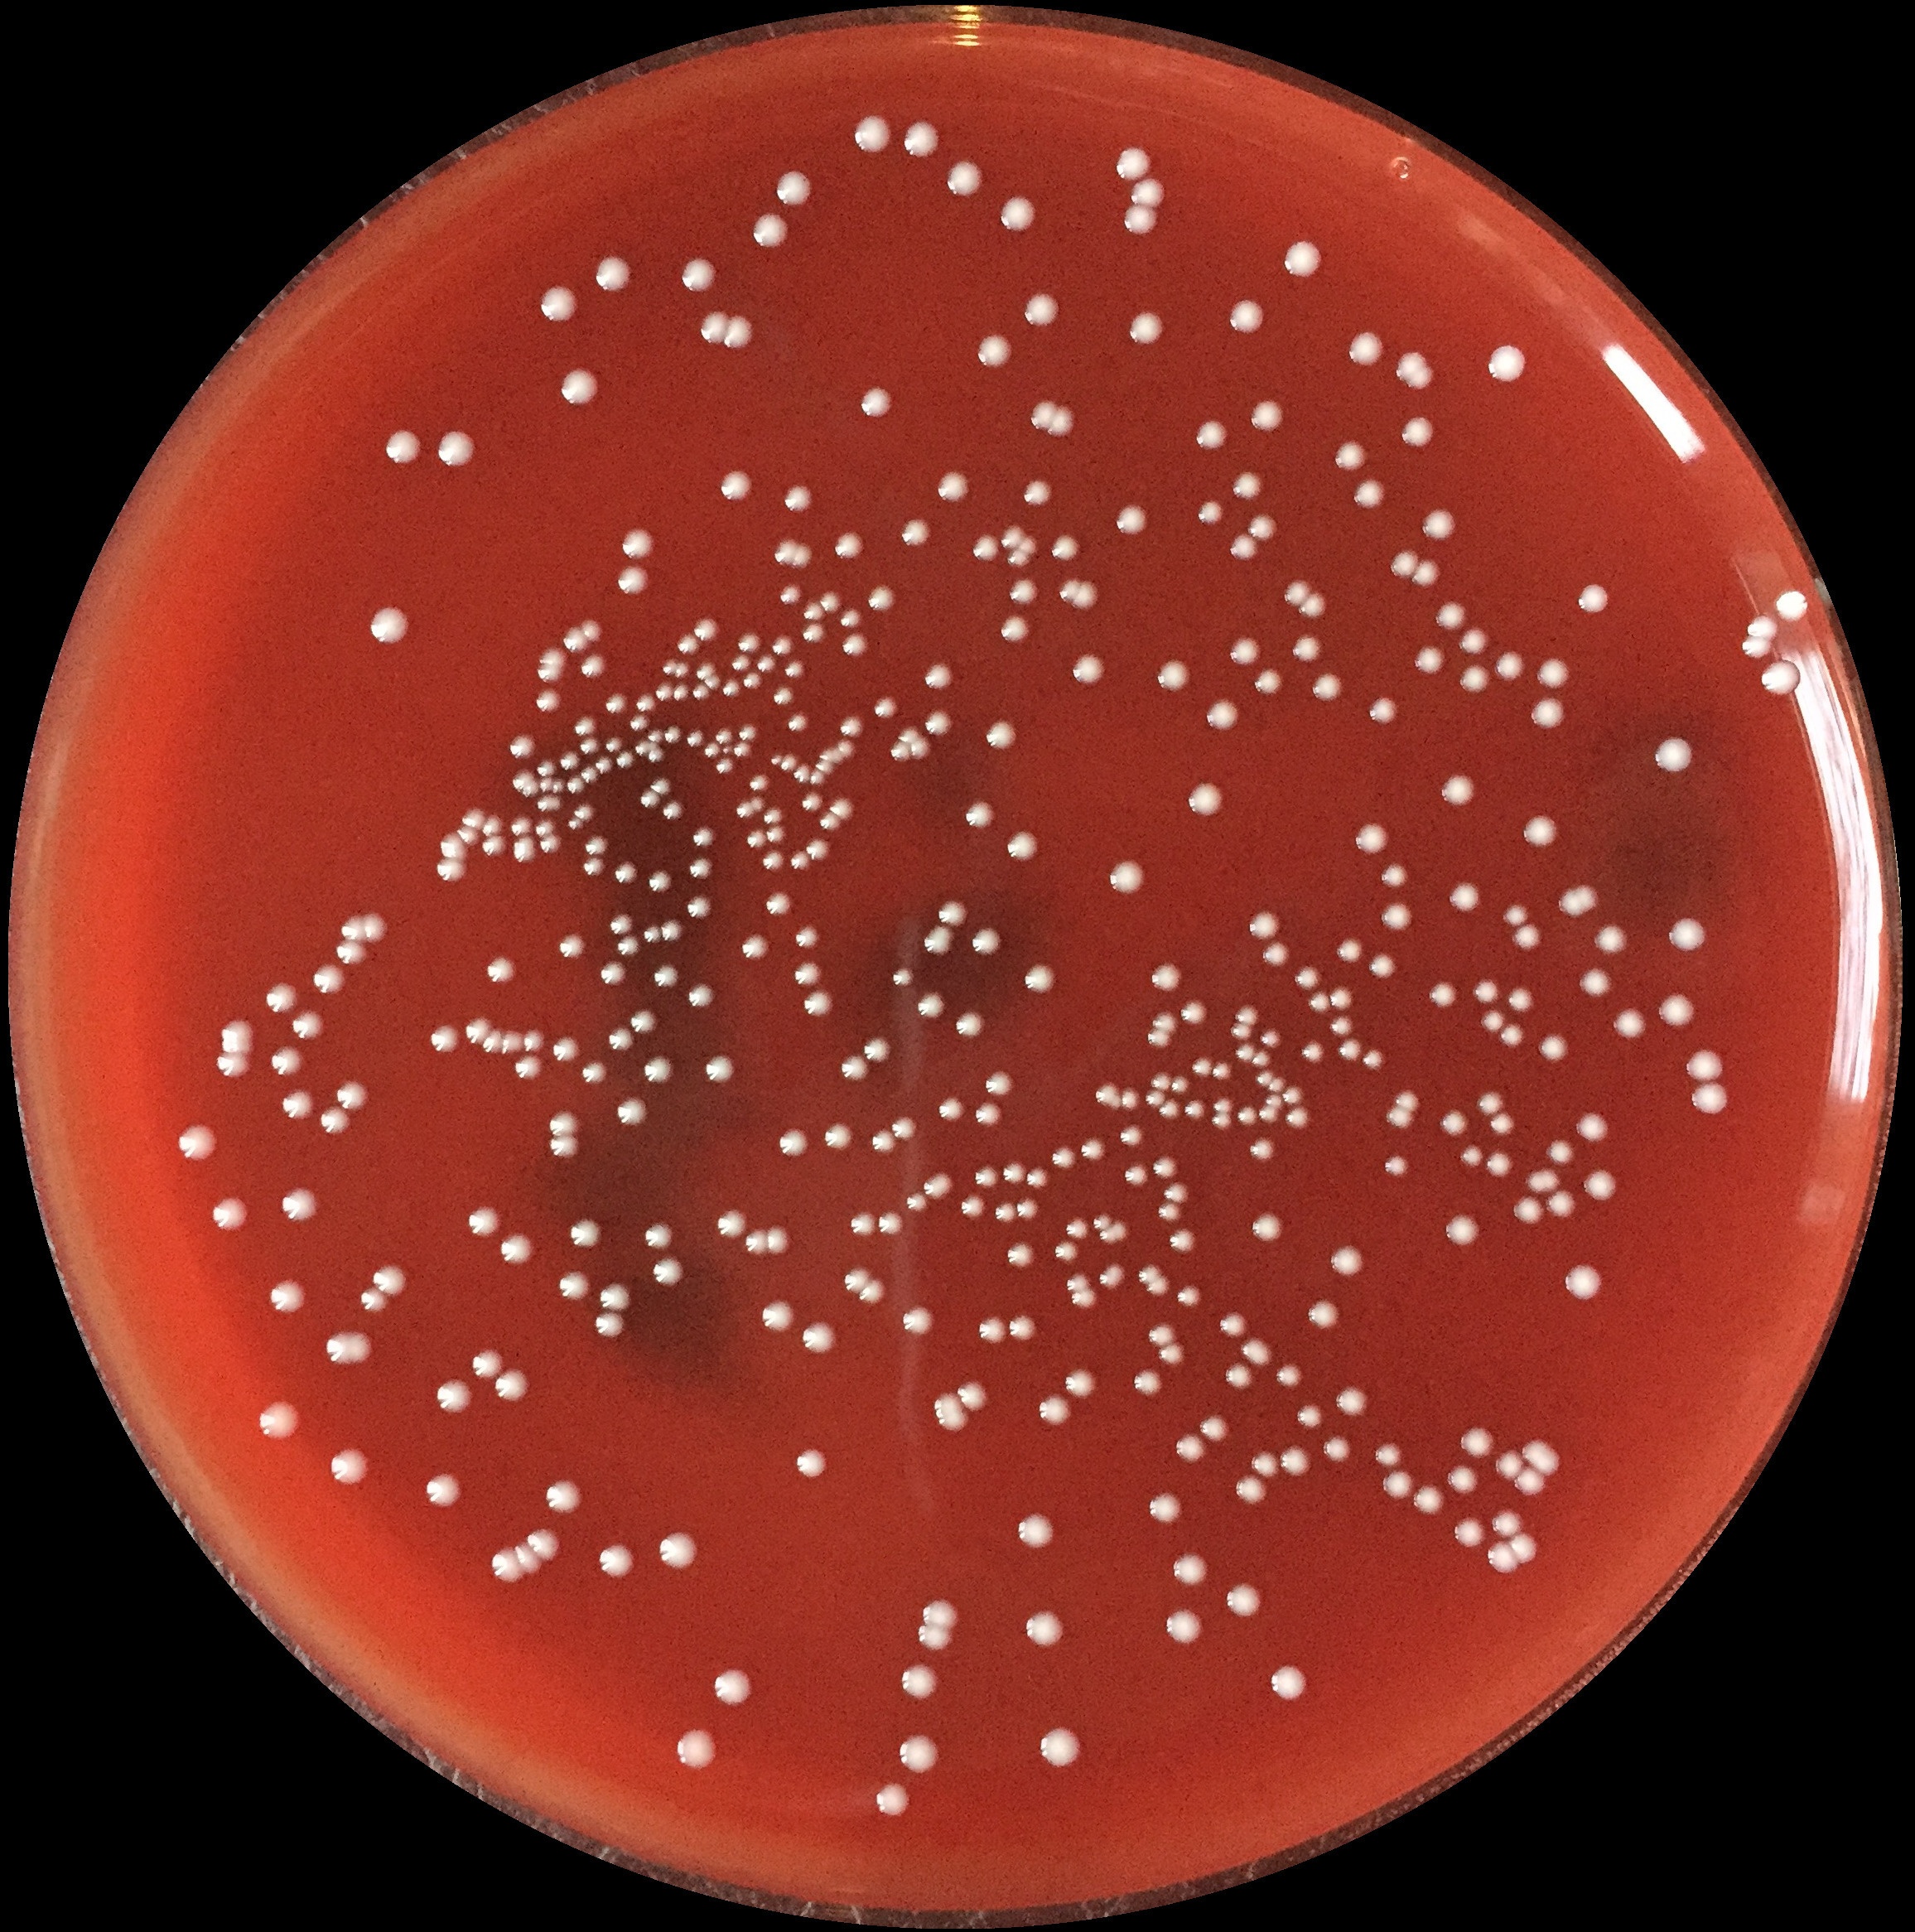sp21: (175, 1120, 223, 1167), (1482, 340, 1531, 386), (258, 1397, 307, 1442), (1036, 1723, 1084, 1769), (673, 1727, 717, 1774), (323, 1328, 377, 1365), (558, 367, 603, 411), (1266, 1658, 1313, 1700), (591, 251, 635, 295), (851, 114, 896, 156), (900, 119, 945, 161), (996, 193, 1042, 235), (1650, 733, 1696, 776), (896, 1734, 940, 1776), (279, 1186, 323, 1228), (382, 426, 424, 470), (942, 158, 987, 198), (1759, 658, 1805, 698), (326, 1444, 372, 1485), (537, 283, 582, 323), (707, 1667, 754, 1706), (1555, 881, 1605, 918), (1015, 1511, 1059, 1551), (1022, 1609, 1066, 1649), (209, 1193, 253, 1234), (433, 430, 477, 470), (1655, 990, 1698, 1030), (658, 1528, 698, 1571), (1021, 291, 1064, 330), (1682, 1046, 1727, 1083), (1519, 1439, 1564, 1476), (1228, 297, 1268, 337), (773, 168, 815, 207), (749, 211, 791, 249), (1282, 239, 1324, 277), (1519, 811, 1561, 849), (1563, 1258, 1601, 1300), (931, 1393, 970, 1435), (368, 607, 410, 646), (679, 256, 719, 295), (1347, 328, 1385, 369), (1438, 772, 1478, 811), (1668, 914, 1708, 953), (758, 1297, 798, 1335), (1222, 1581, 1263, 1620), (370, 1262, 409, 1302), (1185, 781, 1226, 819), (1112, 146, 1154, 182), (1350, 819, 1392, 856), (1689, 1081, 1731, 1118), (423, 1472, 465, 1509), (1126, 311, 1170, 346), (801, 1320, 840, 1358), (435, 1377, 473, 1416), (268, 1277, 307, 1316), (289, 1007, 328, 1046), (1145, 1488, 1185, 1525), (1484, 1539, 1524, 1576), (1163, 1606, 1203, 1642), (1107, 858, 1147, 895), (1170, 1551, 1212, 1586), (977, 332, 1014, 370), (1398, 414, 1436, 451), (1247, 398, 1285, 435), (1771, 588, 1810, 625), (1278, 1442, 1315, 1481), (898, 1662, 936, 1699), (544, 1479, 582, 1516), (872, 1783, 908, 1821), (1610, 1005, 1650, 1041), (1328, 1242, 1368, 1277), (1442, 1462, 1482, 1497), (219, 1016, 254, 1056), (919, 1597, 961, 1630), (212, 1051, 254, 1084), (912, 1621, 956, 1653), (1350, 476, 1387, 512), (1420, 505, 1457, 542), (495, 1367, 531, 1404), (489, 1548, 526, 1585), (982, 716, 1019, 753), (1112, 502, 1150, 537), (1534, 655, 1570, 693), (1203, 698, 1242, 733), (1243, 907, 1282, 942), (1238, 1335, 1277, 1370), (1221, 1358, 1259, 1393), (1233, 1472, 1271, 1507), (723, 314, 756, 354), (1575, 965, 1615, 998), (1035, 1393, 1075, 1427), (1331, 1385, 1371, 1418), (1003, 830, 1043, 863), (1129, 175, 1166, 211), (1192, 419, 1229, 454), (1529, 695, 1566, 730), (1156, 658, 1192, 693), (1447, 879, 1484, 914), (1513, 1463, 1548, 1500), (1021, 962, 1057, 997), (466, 1204, 503, 1239), (526, 1528, 563, 1563), (335, 1079, 372, 1114), (263, 981, 300, 1016), (1070, 651, 1105, 688), (858, 384, 893, 421), (1575, 583, 1613, 616), (1147, 962, 1185, 995), (496, 1232, 535, 1265), (556, 1267, 589, 1306), (598, 1544, 637, 1578), (619, 525, 652, 563), (1047, 530, 1086, 563), (514, 1537, 544, 1579), (1433, 598, 1468, 633), (1306, 1295, 1342, 1330), (616, 565, 651, 600), (719, 467, 754, 502), (1122, 204, 1159, 237), (694, 312, 731, 346), (1364, 693, 1401, 726), (1573, 1109, 1610, 1142), (1582, 1167, 1619, 1200), (1447, 1213, 1484, 1246), (1378, 1469, 1415, 1502), (775, 1127, 812, 1160), (712, 1209, 749, 1242), (279, 1088, 316, 1121), (486, 953, 523, 986), (831, 530, 868, 563), (1592, 923, 1631, 955), (701, 1053, 740, 1084), (317, 1104, 356, 1135), (267, 1044, 305, 1076), (1522, 1165, 1564, 1193), (1391, 349, 1426, 383), (1231, 467, 1264, 502), (1456, 663, 1491, 697), (1492, 649, 1526, 684), (1228, 633, 1263, 667), (1410, 1483, 1445, 1516), (1461, 1427, 1496, 1460), (900, 1302, 933, 1337), (956, 1379, 991, 1413), (598, 1281, 633, 1314), (310, 963, 345, 997), (963, 798, 998, 832), (935, 469, 970, 502), (1510, 1193, 1547, 1225), (1249, 1213, 1285, 1244), (1170, 1432, 1207, 1463), (614, 1097, 651, 1128), (1335, 440, 1368, 474), (1410, 555, 1443, 588), (1196, 1411, 1229, 1444), (821, 1120, 854, 1153), (1491, 1507, 1524, 1541), (440, 830, 473, 863), (1022, 476, 1056, 509), (1378, 902, 1413, 934), (1093, 1262, 1128, 1293), (1129, 1367, 1164, 1399), (1063, 1367, 1098, 1399), (970, 925, 1001, 960), (922, 923, 954, 958), (914, 990, 949, 1021), (547, 1107, 582, 1139), (568, 1218, 603, 1249), (1452, 1514, 1487, 1546), (430, 1021, 461, 1056), (1403, 363, 1440, 393), (1410, 644, 1447, 674), (1310, 672, 1347, 702), (1289, 633, 1326, 663), (919, 1170, 956, 1200), (468, 1349, 505, 1379), (1047, 404, 1077, 440), (1740, 633, 1778, 662), (1280, 577, 1313, 609), (1457, 625, 1491, 656), (1249, 1449, 1282, 1481), (954, 1009, 987, 1041), (642, 1055, 675, 1086), (875, 1207, 908, 1239), (651, 1258, 684, 1290), (1508, 1530, 1540, 1563), (461, 1016, 495, 1048), (1000, 612, 1031, 646), (1245, 512, 1280, 542), (1294, 591, 1329, 621), (1424, 981, 1459, 1011), (1364, 951, 1399, 981), (1545, 1137, 1580, 1167), (1164, 1227, 1200, 1256), (1215, 1311, 1250, 1341), (800, 986, 835, 1016), (765, 1223, 794, 1258), (793, 1448, 828, 1478), (533, 686, 568, 716), (782, 483, 817, 512), (1073, 577, 1103, 612), (1743, 611, 1780, 639), (1319, 1434, 1350, 1465), (984, 1067, 1015, 1098), (970, 533, 1001, 565), (1226, 535, 1259, 565), (1389, 549, 1422, 579), (1536, 1032, 1570, 1062), (1259, 939, 1292, 969), (1291, 965, 1324, 995), (1178, 997, 1212, 1027), (1077, 1134, 1110, 1163), (1007, 1311, 1040, 1341), (836, 1051, 870, 1081), (549, 1035, 582, 1065), (360, 909, 389, 942), (452, 819, 486, 849), (922, 660, 952, 693), (898, 518, 931, 547), (935, 900, 970, 928), (356, 1284, 391, 1313), (1378, 862, 1410, 891), (1512, 921, 1541, 953), (1359, 1044, 1389, 1076), (1545, 1188, 1575, 1220), (1485, 1107, 1517, 1137), (1373, 1439, 1405, 1469), (861, 1034, 893, 1063), (868, 1127, 898, 1158), (854, 1277, 886, 1307), (977, 1316, 1008, 1346), (642, 1221, 673, 1251), (594, 1309, 626, 1339), (337, 911, 368, 941), (435, 856, 466, 886), (763, 890, 794, 919), (922, 705, 952, 737), (1008, 576, 1038, 607), (1028, 398, 1057, 430), (1196, 497, 1224, 530), (1482, 1149, 1515, 1177), (1001, 1241, 1035, 1269), (1271, 1362, 1305, 1390), (740, 932, 773, 960), (865, 583, 898, 611), (547, 1135, 582, 1162), (842, 1267, 877, 1293), (1298, 1037, 1328, 1067), (1093, 1081, 1122, 1111), (793, 921, 822, 951), (556, 930, 586, 960), (579, 651, 609, 681), (602, 688, 631, 718), (1470, 977, 1501, 1005), (1333, 937, 1364, 965), (1296, 1400, 1328, 1428), (1496, 1449, 1524, 1481), (972, 1100, 1003, 1128), (605, 1027, 637, 1055), (510, 834, 538, 865), (507, 730, 538, 758), (1156, 1339, 1189, 1365), (826, 795, 859, 821), (838, 632, 872, 658), (333, 941, 368, 965), (1328, 984, 1357, 1013), (1336, 1035, 1364, 1065), (1440, 1107, 1470, 1135), (1247, 1134, 1277, 1162), (1150, 1155, 1180, 1183), (889, 1114, 919, 1142), (686, 981, 715, 1009), (598, 958, 628, 986), (514, 1055, 544, 1083), (687, 855, 717, 883), (1252, 669, 1284, 695), (1475, 1090, 1506, 1116), (1147, 1321, 1178, 1348), (626, 1009, 658, 1035), (689, 614, 721, 640), (1050, 1239, 1084, 1263), (535, 662, 568, 686), (1456, 1142, 1484, 1170), (645, 865, 673, 893), (800, 598, 828, 626), (1328, 1013, 1357, 1039), (1122, 1162, 1152, 1188), (1173, 1283, 1203, 1309), (935, 1097, 965, 1123), (793, 960, 822, 986), (651, 963, 680, 990), (684, 893, 714, 919), (459, 804, 489, 830), (563, 626, 589, 656), (1384, 1104, 1415, 1128), (1115, 1123, 1147, 1148), (1501, 900, 1529, 927), (1284, 1104, 1312, 1130), (1024, 1165, 1050, 1193), (1000, 1160, 1028, 1186), (972, 1163, 1000, 1190), (849, 1211, 877, 1237), (612, 860, 640, 886), (873, 693, 900, 721), (773, 539, 800, 567), (775, 581, 803, 607), (998, 523, 1026, 549), (1505, 986, 1534, 1011), (1150, 1011, 1180, 1035), (1145, 1027, 1175, 1051), (579, 1060, 609, 1084), (957, 1193, 987, 1218), (800, 621, 829, 646), (1306, 990, 1333, 1016), (1156, 1199, 1182, 1225), (798, 790, 824, 816), (1480, 1007, 1505, 1035), (1498, 1023, 1526, 1048), (1147, 1070, 1175, 1095), (1380, 1153, 1408, 1177), (1156, 1097, 1184, 1121), (503, 1027, 528, 1055), (479, 812, 503, 841), (805, 837, 833, 862), (570, 714, 598, 739), (579, 616, 603, 644), (887, 739, 912, 767), (735, 630, 763, 655), (782, 656, 810, 681), (1182, 1098, 1212, 1121), (482, 1025, 505, 1055), (521, 1025, 544, 1055), (479, 834, 509, 856), (673, 632, 703, 655), (1233, 1004, 1259, 1028), (889, 965, 915, 990), (607, 911, 631, 937), (742, 1228, 768, 1253), (509, 812, 533, 839), (584, 832, 609, 858), (689, 823, 715, 848), (573, 800, 600, 825), (626, 711, 652, 735), (838, 714, 863, 741), (908, 735, 933, 762), (770, 633, 796, 658), (1394, 1088, 1422, 1111), (1164, 1181, 1192, 1204), (1014, 1197, 1042, 1220), (759, 848, 787, 870), (1003, 547, 1031, 570), (1063, 1272, 1093, 1293), (1189, 1055, 1214, 1079), (1064, 1216, 1089, 1241), (538, 832, 563, 856), (759, 804, 784, 828), (684, 726, 708, 751), (1231, 1041, 1257, 1063), (580, 855, 607, 877), (659, 797, 686, 819), (575, 735, 602, 758), (784, 711, 810, 733), (694, 660, 721, 683), (819, 588, 842, 614), (1143, 1274, 1171, 1295), (538, 648, 568, 667), (631, 739, 661, 758), (835, 607, 865, 626), (1259, 1027, 1284, 1049), (1235, 1104, 1259, 1127), (617, 934, 640, 958), (659, 918, 682, 942), (1050, 1144, 1075, 1167), (903, 1191, 928, 1214), (994, 1199, 1017, 1223), (637, 786, 661, 809), (737, 723, 761, 746), (754, 653, 779, 676), (1229, 1021, 1256, 1042), (1119, 1086, 1140, 1113), (1136, 1263, 1163, 1284), (1070, 1288, 1096, 1309), (633, 693, 659, 714), (819, 742, 845, 763), (791, 542, 812, 569), (535, 795, 563, 814), (789, 849, 812, 872), (649, 772, 672, 795), (700, 670, 723, 693), (1059, 579, 1082, 602), (1249, 1049, 1273, 1070), (1170, 1072, 1191, 1097), (1280, 1084, 1305, 1106), (1257, 1106, 1282, 1127), (1142, 1088, 1166, 1109), (1107, 1220, 1131, 1241), (745, 826, 766, 851), (507, 767, 531, 788), (558, 749, 582, 770), (616, 748, 637, 772), (659, 723, 684, 744), (721, 677, 745, 698), (1210, 1095, 1236, 1114), (738, 672, 765, 691), (763, 825, 786, 846), (747, 772, 770, 793), (733, 737, 754, 760), (670, 681, 693, 702), (1015, 535, 1038, 556), (1252, 1069, 1277, 1088), (1210, 1060, 1235, 1079), (817, 812, 842, 832), (733, 800, 758, 819), (575, 765, 600, 784), (603, 735, 628, 755), (779, 751, 798, 776), (896, 725, 921, 744), (654, 679, 673, 704), (728, 653, 752, 672), (519, 779, 540, 800), (563, 774, 584, 795), (645, 746, 666, 767), (714, 725, 735, 746), (1264, 1076, 1287, 1095), (1091, 1211, 1114, 1230), (535, 758, 558, 777), (791, 760, 810, 783), (770, 684, 793, 704), (1212, 1111, 1233, 1130), (535, 818, 556, 837), (593, 755, 614, 774), (645, 726, 666, 746), (836, 737, 856, 758), (659, 656, 680, 676), (1098, 1227, 1117, 1246), (703, 742, 723, 762), (766, 749, 784, 770), (1263, 1091, 1285, 1107), (747, 793, 765, 812), (535, 776, 554, 793), (689, 684, 708, 702), (815, 758, 836, 774), (642, 927, 661, 942), (714, 758, 733, 774), (566, 816, 586, 832), (547, 777, 566, 793), (808, 770, 828, 786), (673, 660, 689, 679), (719, 742, 733, 756)
